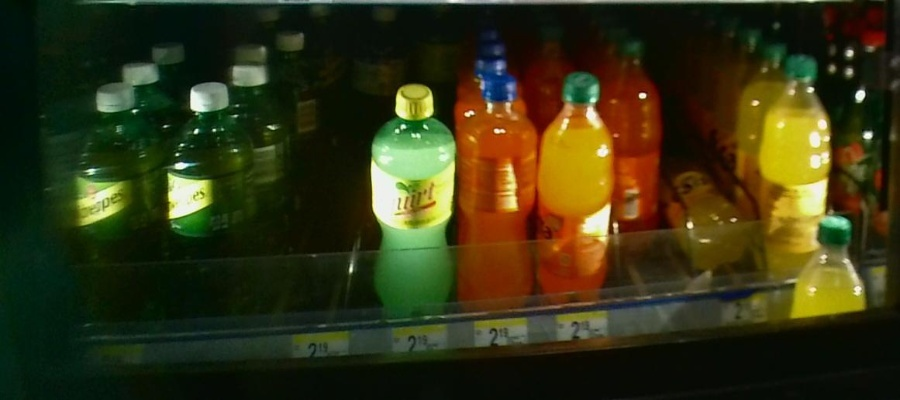bottle: (164, 72, 253, 327), (76, 82, 163, 333), (371, 82, 455, 322), (458, 76, 537, 310), (542, 74, 614, 308), (762, 57, 823, 275), (614, 41, 658, 250), (343, 1, 393, 143), (685, 172, 740, 264)
